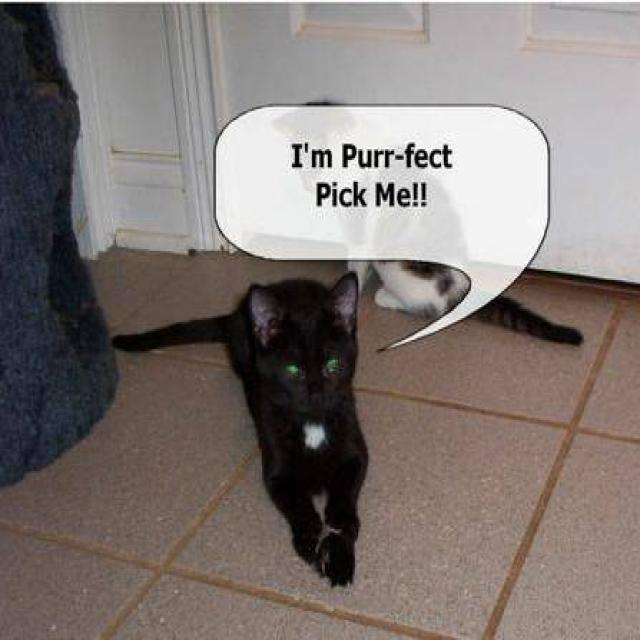cat: (110, 269, 370, 587), (345, 258, 583, 347)
